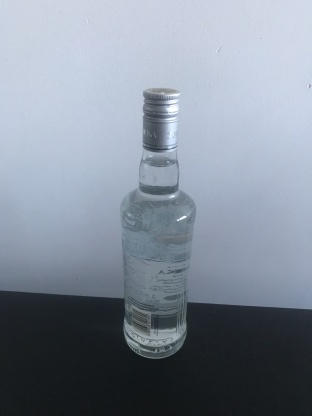nakretka: (140, 84, 181, 153)
